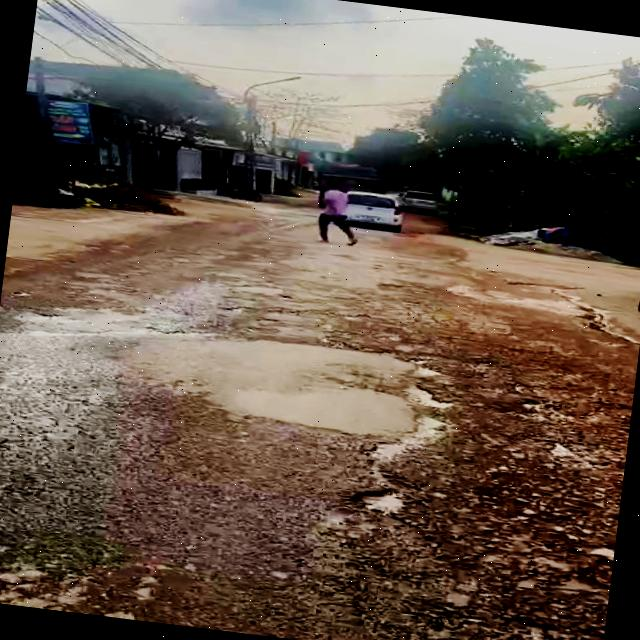pothole: (358, 402, 457, 482), (504, 378, 586, 432), (392, 357, 463, 416), (346, 480, 426, 526)
